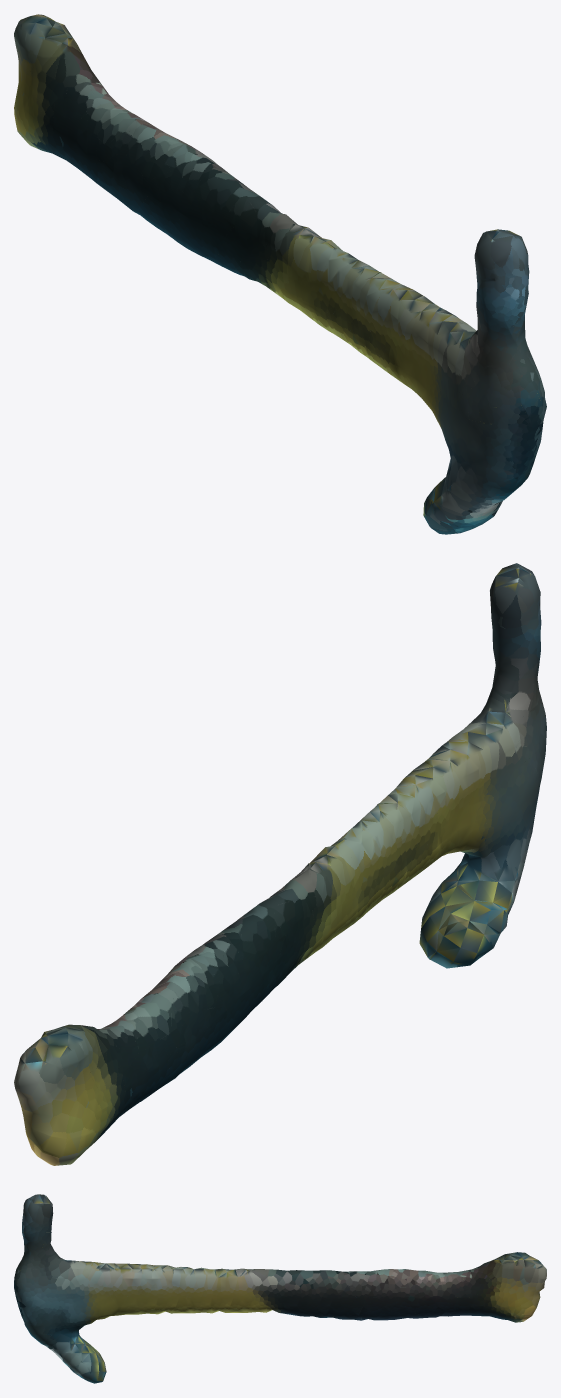
Rendered from clawhammer_new_egocentric.fbx.
3 renders of one model, top to bottom at view 1: azimuth 30°, elevation 25°; view 2: azimuth 150°, elevation 25°; view 3: azimuth 270°, elevation 25°, orthographic. The views are drawn at different scales.
Visible parts, largest first — view 1: clawhammer_new; view 2: clawhammer_new; view 3: clawhammer_new.
Part boxes in pixels (x1,y1,x2,y2): clawhammer_new: [14, 14, 546, 534]; clawhammer_new: [14, 563, 546, 1165]; clawhammer_new: [14, 1194, 546, 1383].
Bounding box in the file's own units: 3.04 × 12.73 × 33.3.
Materials: 1 (1 with a texture image).
